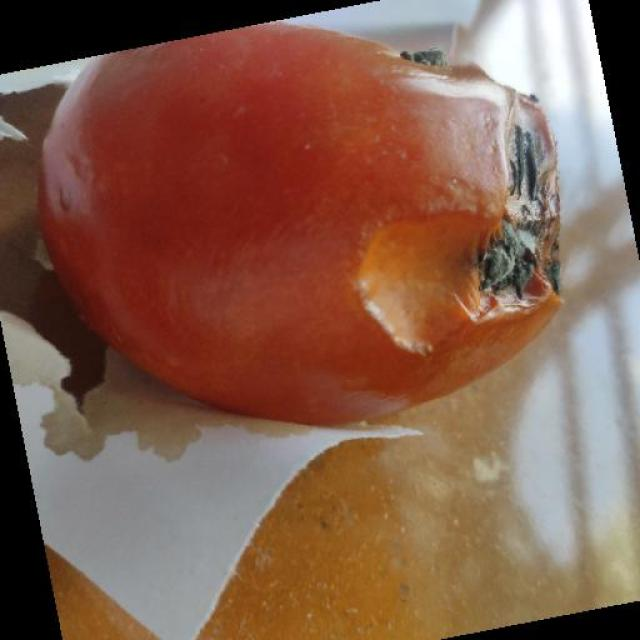Stale_tomato: (53, 24, 584, 409)
